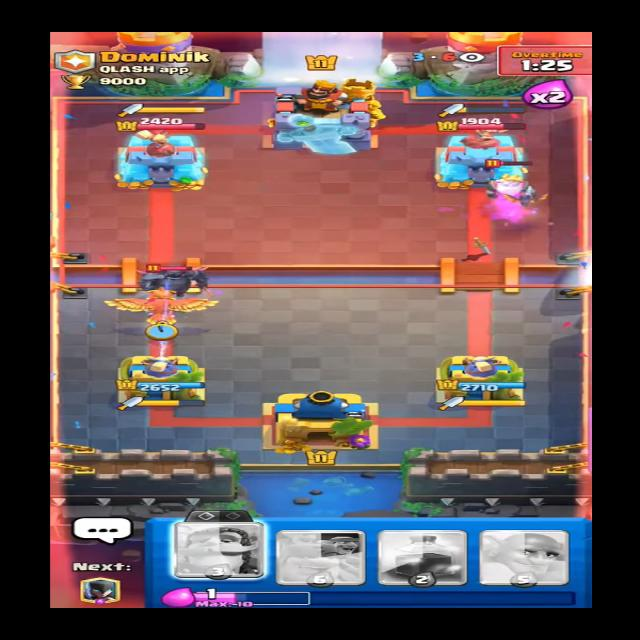Pekka: (136, 254, 218, 300)
Royalghost: (472, 154, 554, 204)
